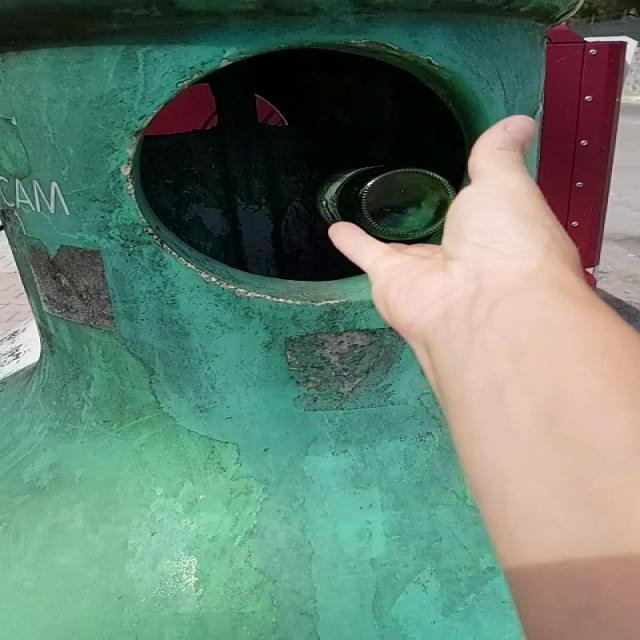glass: (316, 165, 456, 241)
